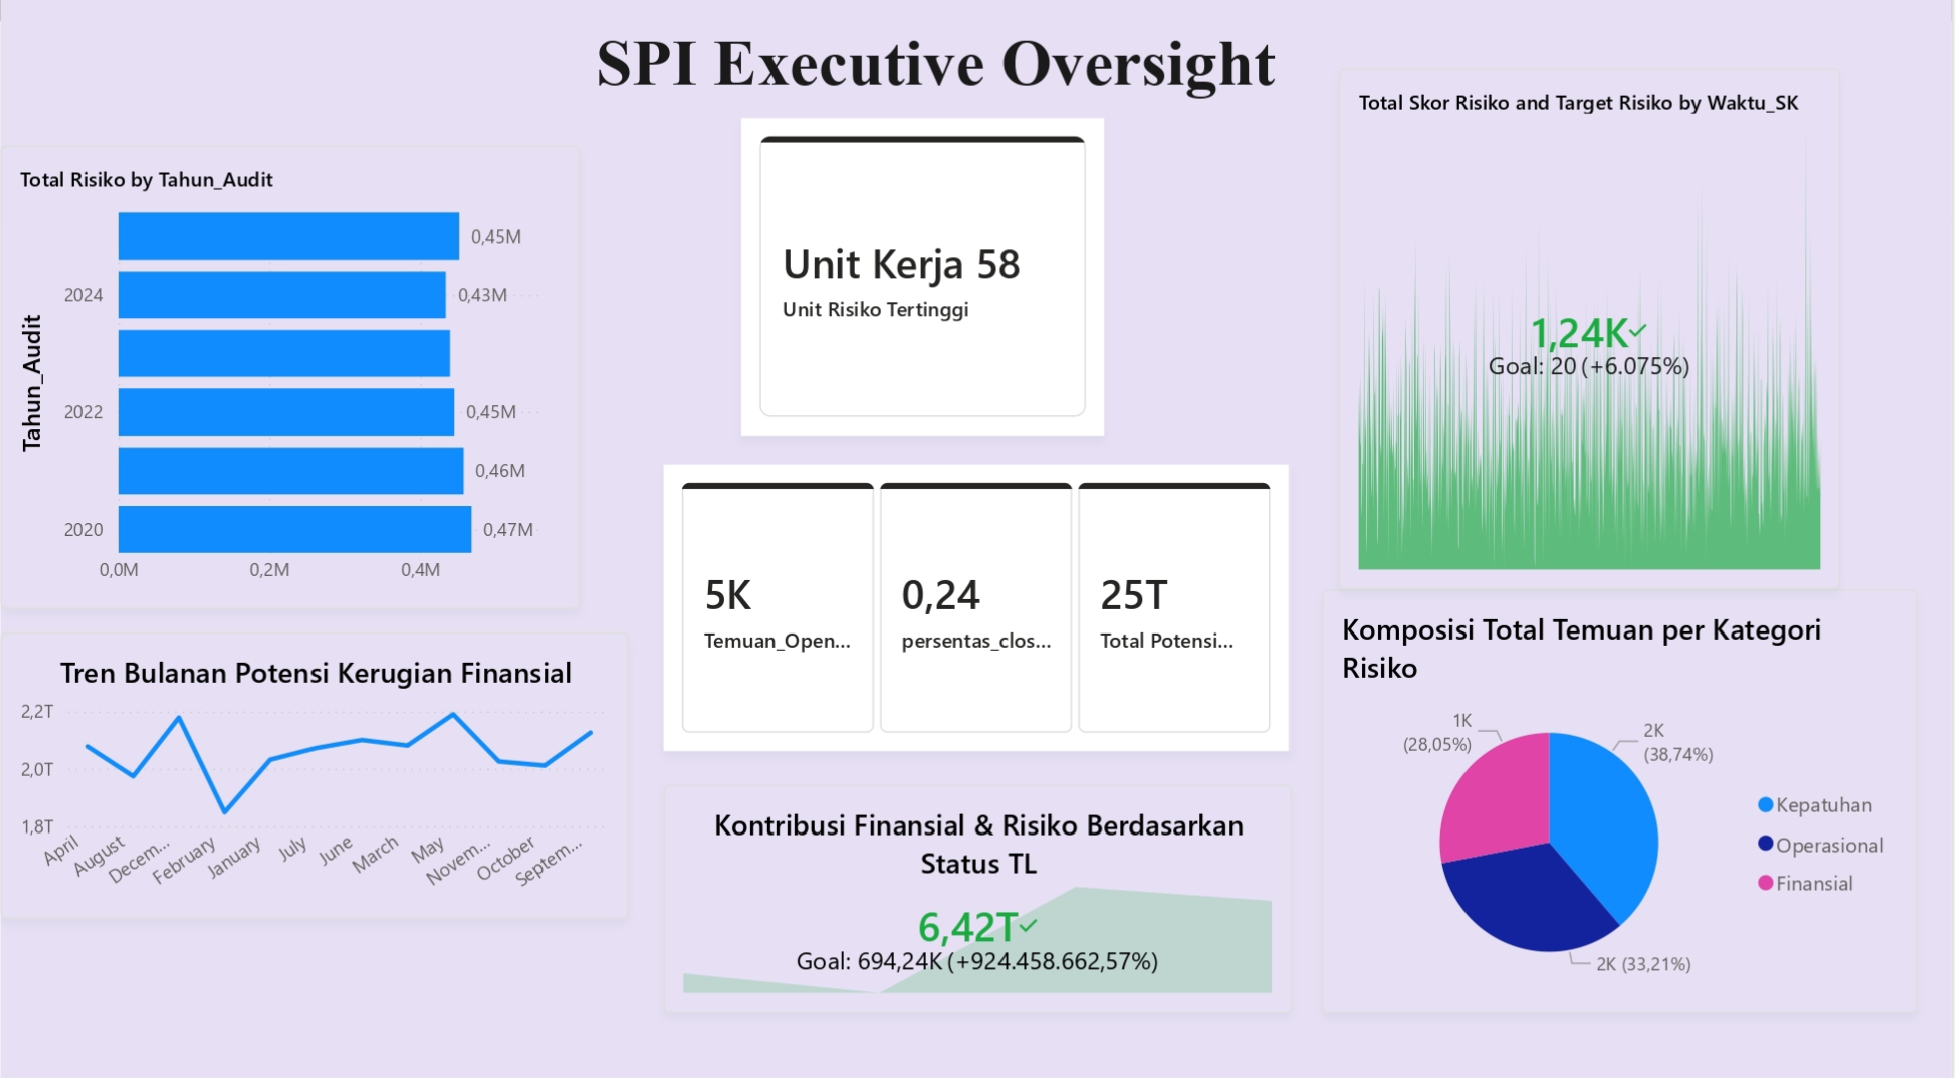

The page's visual inventory and layout, read from the dashboard file:
{"tool":"powerbi","page":{"name":"SPI Executive Oversight","canvas":[1280,720],"ordinal":0},"visuals":[{"type":"lineChart","title":"Tren Bulanan Potensi Kerugian Finansial","fields":{"Y":["Dimensi_Auditor.Total Potensi Kerugian"],"Category":["Dimensi_Waktu.Bulan"]},"box":[0,425,411.7,188.3],"z":0},{"type":"pieChart","title":"Komposisi Total Temuan per Kategori Risiko","fields":{"Category":["Dimensi_Temuan.Kategori_Risiko"],"Y":["Dimensi_Auditor.Total Temuann"]},"box":[866.7,396.7,391.7,278.3],"z":1000},{"type":"cardVisual","fields":{"Data":["Dimensi_Auditor.Unit Risiko Tertinggi"]},"box":[486,88,238,208],"z":2000},{"type":"kpi","title":"Kontribusi Finansial & Risiko Berdasarkan Status TL","fields":{"Indicator":["Sum(Fakta_Temuan_Rekomendasi.Potensi_Kerugian_IDR)"],"Goal":["Sum(Fakta_Temuan_Rekomendasi.Skor_Risiko_Temuan)"],"TrendLine":["Dimensi_Rekomendasi.Status_Tindak_Lanjut"]},"box":[435,525,411.7,150],"z":3000},{"type":"barChart","fields":{"Category":["Fakta_Temuan_Rekomendasi.Tahun_Audit"],"Y":["Dimensi_Auditor.Total Risiko"]},"box":[40,22,380,304],"z":4000},{"type":"cardVisual","fields":{"Data":["Dimensi_Auditor.Total Temuann","Dimensi_Auditor.Avg_Skor_Risiko_Global","Dimensi_Auditor.Total Potensi Kerugian"]},"box":[435,315,411.7,188.3],"z":5000},{"type":"kpi","fields":{"Indicator":["Dimensi_Auditor.Total Skor Risiko"],"TrendLine":["Fakta_Temuan_Rekomendasi.Waktu_SK"],"Goal":["Dimensi_Auditor.Target Risiko"]},"box":[878.3,55,328.3,341.7],"z":6000},{"type":"textbox","box":[360,5,506.7,101.7],"z":7000}]}

Visuals, with their boxes in screenshot pixels (x1, y1, x2, y2), scaled from the page's 1280x720 canvas onto the 1955x1078 screenshot:
"Tren Bulanan Potensi Kerugian Finansial" lineChart: l=0, t=636, r=629, b=918
"Komposisi Total Temuan per Kategori Risiko" pieChart: l=1324, t=594, r=1922, b=1011
cardVisual - Dimensi_Auditor.Unit Risiko Tertinggi: l=742, t=132, r=1106, b=443
"Kontribusi Finansial & Risiko Berdasarkan Status TL" kpi: l=664, t=786, r=1293, b=1011
barChart - Fakta_Temuan_Rekomendasi.Tahun_Audit x Dimensi_Auditor.Total Risiko: l=61, t=33, r=641, b=488
cardVisual - Dimensi_Auditor.Total Temuann x Dimensi_Auditor.Avg_Skor_Risiko_Global: l=664, t=472, r=1293, b=754
kpi - Dimensi_Auditor.Total Skor Risiko x Fakta_Temuan_Rekomendasi.Waktu_SK: l=1341, t=82, r=1843, b=594
textbox: l=550, t=7, r=1324, b=160
